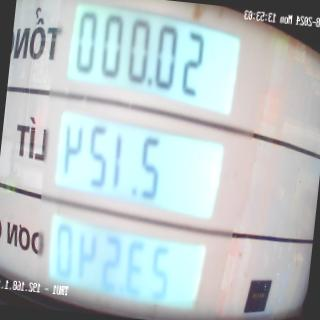screen: (31, 0, 250, 320)
